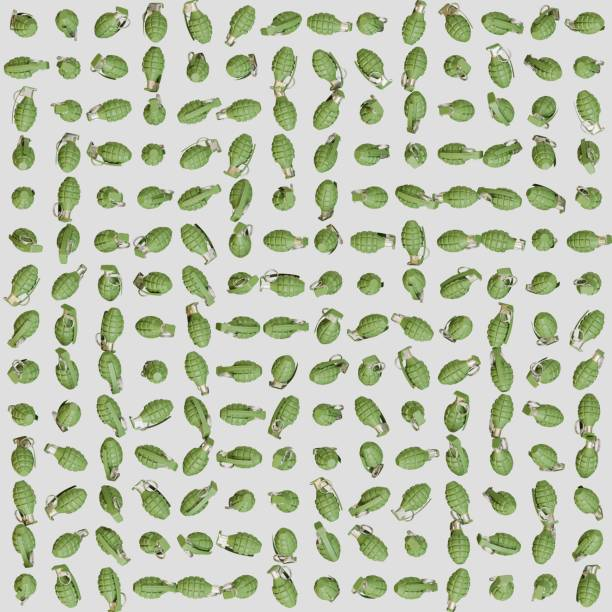e1: (175, 222, 220, 265), (390, 482, 437, 522), (309, 46, 351, 89), (346, 524, 389, 565), (353, 46, 394, 88), (1, 263, 43, 304), (394, 345, 432, 389), (221, 131, 258, 176), (212, 527, 262, 560), (476, 182, 525, 215), (43, 484, 89, 519), (49, 563, 84, 609), (181, 1, 215, 47), (572, 347, 606, 393), (181, 267, 217, 309), (267, 565, 301, 609), (130, 398, 175, 431), (439, 266, 481, 301), (484, 44, 517, 88), (438, 1, 474, 41), (575, 90, 605, 138), (222, 5, 255, 48), (44, 439, 88, 471), (85, 96, 133, 125), (178, 136, 220, 169), (53, 177, 83, 223), (312, 478, 344, 521), (435, 353, 479, 384), (267, 48, 301, 88), (9, 87, 39, 132), (258, 267, 306, 295), (175, 182, 224, 209), (85, 139, 132, 167), (88, 53, 131, 83), (393, 184, 439, 212), (307, 353, 348, 384), (482, 10, 527, 38), (4, 310, 39, 346), (391, 445, 441, 470), (311, 131, 343, 170), (474, 530, 522, 556), (260, 9, 303, 38), (524, 183, 567, 212), (141, 47, 167, 94), (403, 220, 430, 265), (481, 227, 526, 254), (272, 136, 300, 179), (348, 230, 396, 255), (306, 12, 351, 38), (95, 263, 125, 302), (5, 434, 35, 473), (53, 302, 80, 345), (313, 306, 346, 341), (436, 143, 484, 167), (404, 94, 430, 138), (53, 132, 82, 171), (433, 230, 482, 253), (525, 53, 565, 81), (532, 4, 562, 41), (531, 132, 561, 169), (142, 3, 171, 41), (260, 231, 310, 253), (227, 181, 253, 223), (5, 58, 52, 81), (183, 95, 221, 123), (403, 48, 427, 92), (96, 6, 128, 38), (402, 1, 426, 43), (485, 94, 515, 126), (524, 270, 564, 294), (94, 230, 133, 253)
